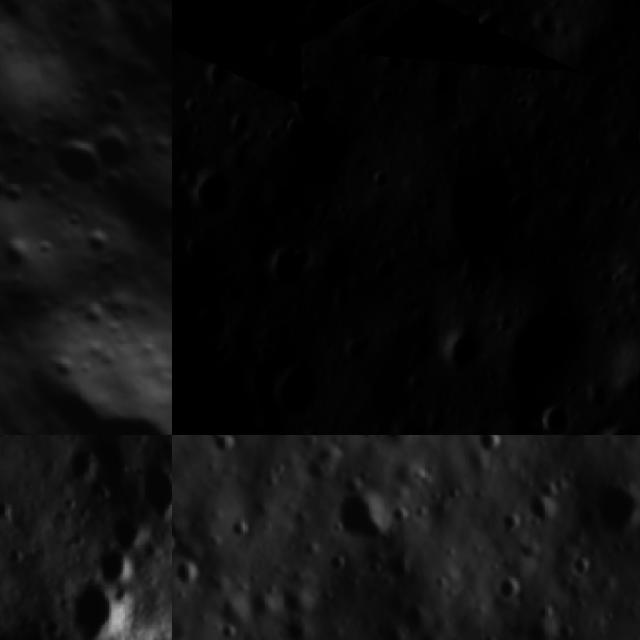crater: (36, 126, 119, 209), (54, 570, 132, 640), (322, 485, 398, 550), (85, 120, 152, 188), (127, 449, 172, 537), (588, 472, 640, 547), (89, 537, 146, 595), (279, 85, 335, 142), (93, 80, 141, 127), (194, 164, 232, 213), (520, 488, 564, 530), (265, 610, 325, 640), (265, 248, 309, 286), (0, 173, 37, 213), (445, 330, 477, 376), (382, 550, 418, 586), (493, 572, 525, 612), (172, 558, 207, 594), (564, 552, 596, 588), (388, 497, 418, 532), (297, 0, 334, 27), (206, 435, 243, 462), (537, 408, 573, 435), (471, 435, 508, 460), (368, 621, 411, 640), (590, 419, 640, 435), (521, 619, 558, 640), (268, 35, 295, 62), (0, 161, 13, 216), (532, 602, 558, 625), (556, 620, 579, 640), (172, 0, 206, 12), (172, 529, 181, 565)
